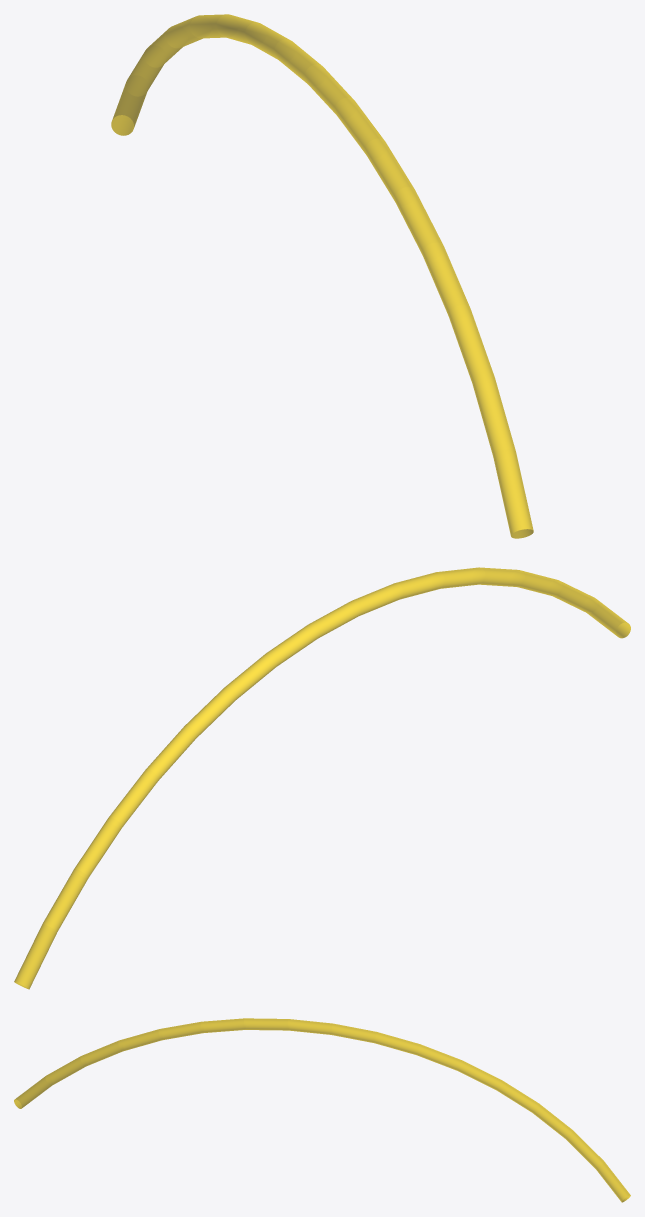
The model's file is Event_15818458_track_5.fbx.
The picture shows the model from 3 angles, top to bottom: view 1: azimuth 30°, elevation 25°; view 2: azimuth 150°, elevation 25°; view 3: azimuth 270°, elevation 25°; orthographic projection. The views are drawn at different scales.
Visible parts, largest first — view 1: Model; view 2: Model; view 3: Model.
Part boxes in pixels (<box>): Model: <box>111,14,533,538</box>; Model: <box>14,567,630,989</box>; Model: <box>14,1018,630,1202</box>.
Bounding box in the file's own units: 0.4519 × 0.5852 × 2.11.
